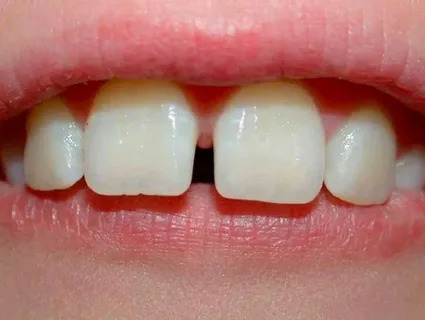Gap: (156, 117, 251, 200)
